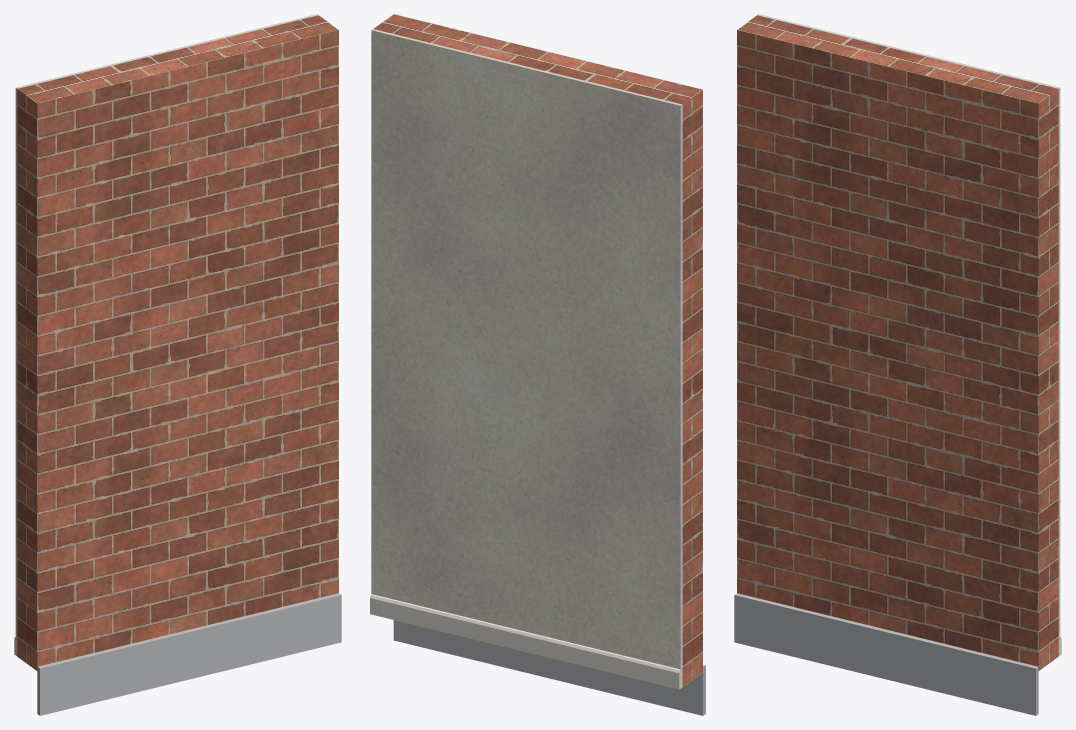
File: pu_plain_np.glb
3 renders of one model, left to right at view 1: azimuth 30°, elevation 25°; view 2: azimuth 150°, elevation 25°; view 3: azimuth 330°, elevation 25°, orthographic. The views are drawn at different scales.
Visible parts, largest first — view 1: pu_plain_np_brick, pu_plain_np_band, pu_plain_np_plaster; view 2: pu_plain_np_plaster, pu_plain_np_brick, pu_plain_np_band, pu_plain_np_trim; view 3: pu_plain_np_brick, pu_plain_np_band, pu_plain_np_plaster.
Part boxes in pixels (<box>): pu_plain_np_brick: <box>17,15,338,670</box>; pu_plain_np_band: <box>37,593,341,715</box>; pu_plain_np_plaster: <box>15,14,318,656</box>; pu_plain_np_plaster: <box>371,29,682,688</box>; pu_plain_np_brick: <box>374,14,702,686</box>; pu_plain_np_band: <box>393,620,705,715</box>; pu_plain_np_trim: <box>370,594,680,689</box>; pu_plain_np_brick: <box>737,15,1058,670</box>; pu_plain_np_band: <box>734,593,1038,715</box>; pu_plain_np_plaster: <box>757,14,1060,656</box>.
Size of the model in its own units: 2 by 3.87 by 0.296.
Materials: 4 (2 with a texture image).
